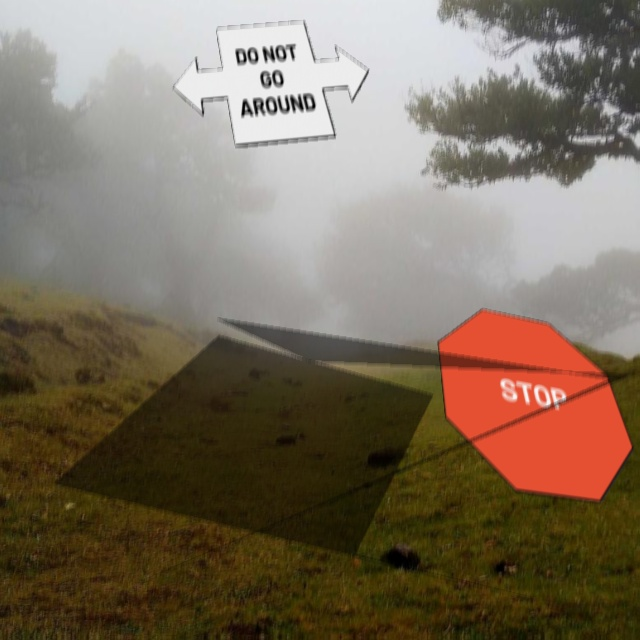DO_NOT_GO_AROUND: (173, 23, 370, 149)
STOP: (438, 311, 635, 505)
